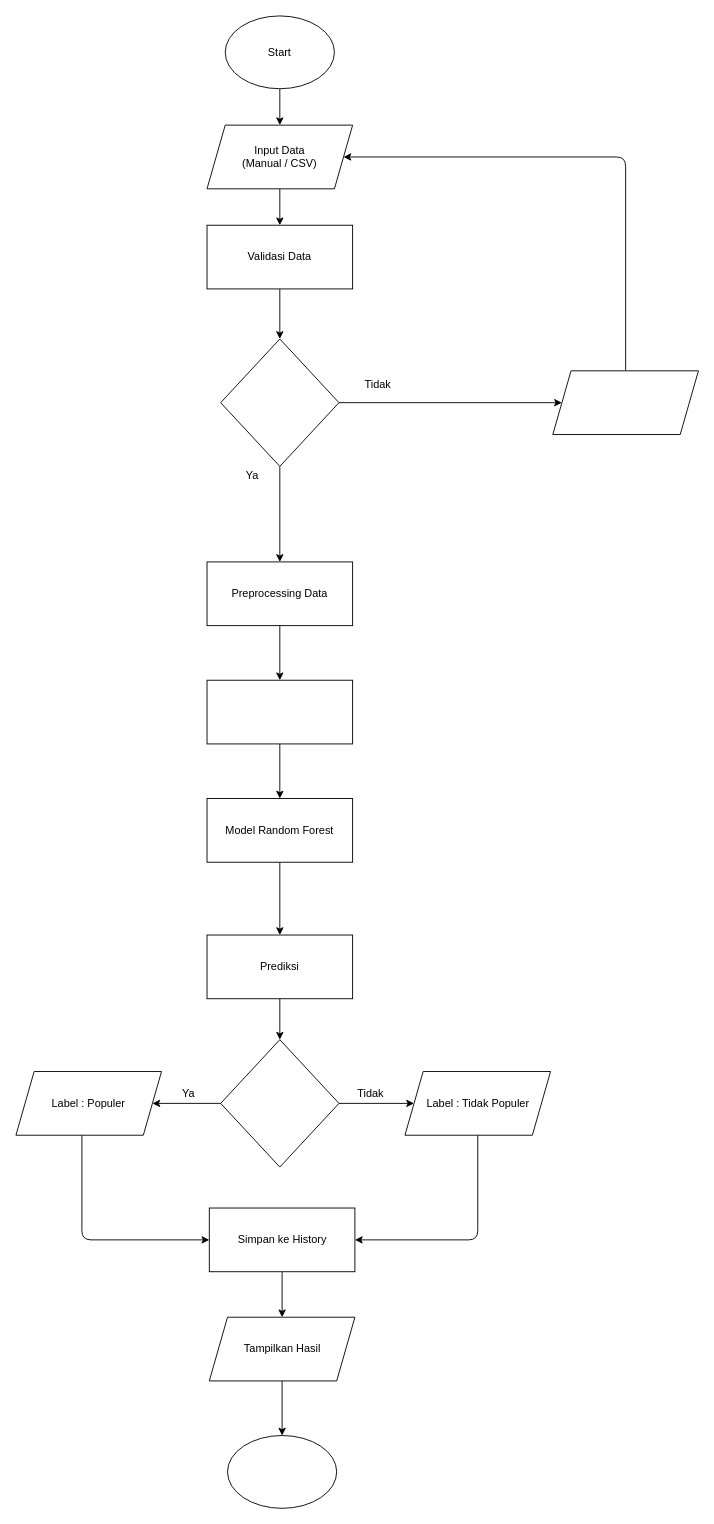
The diagram is 714 pixels wide and 1524 high, and some of its shapes have lost their labels. Each missing label, with the centre of its shape:
"Apakah Data Valid?" goes at [279,402].
"END" goes at [282,1471].
"Feature Engineering" goes at [279,711].
"Populer?" goes at [279,1103].
"Tampilkan Error" goes at [625,402].
